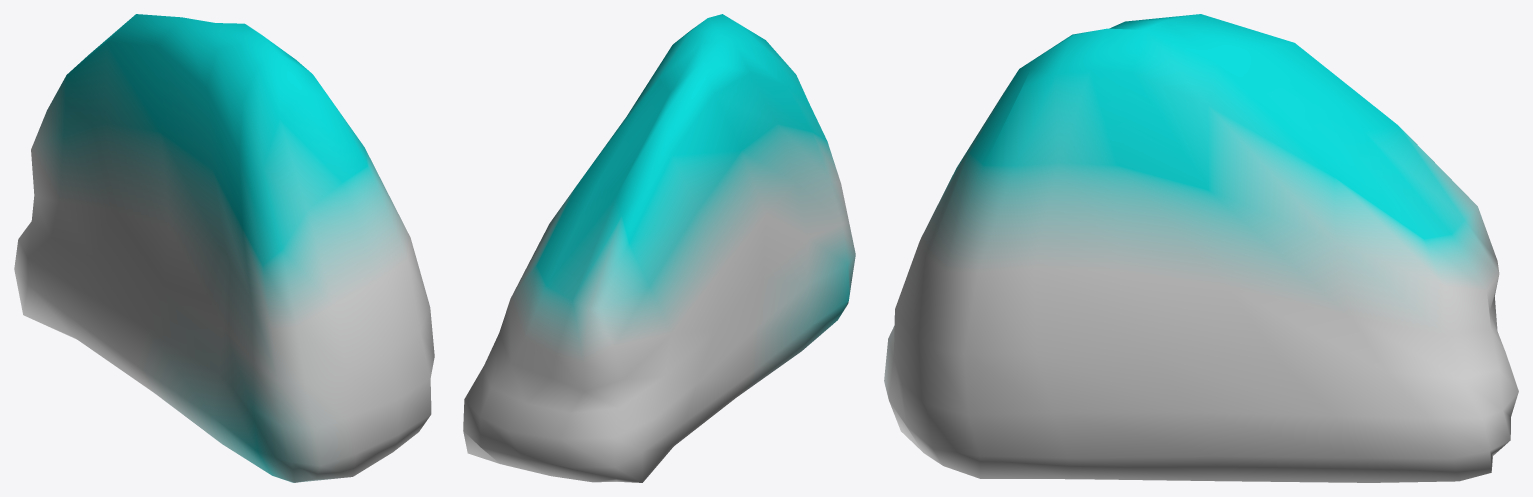
File: M_Wall1.fbx
The picture shows the model from 3 angles, left to right: view 1: azimuth 30°, elevation 25°; view 2: azimuth 150°, elevation 25°; view 3: azimuth 270°, elevation 25°; orthographic projection. The views are drawn at different scales.
Parts seen in each view (by area): view 1: Cube.s; view 2: Cube.s; view 3: Cube.s.
Part boxes in pixels (left/top/right/bottom): Cube.s: left=14, top=14, right=434, bottom=482; Cube.s: left=463, top=14, right=855, bottom=482; Cube.s: left=884, top=14, right=1518, bottom=482.
Bounding box in the file's own units: 6.59 × 12.2 × 16.75.
